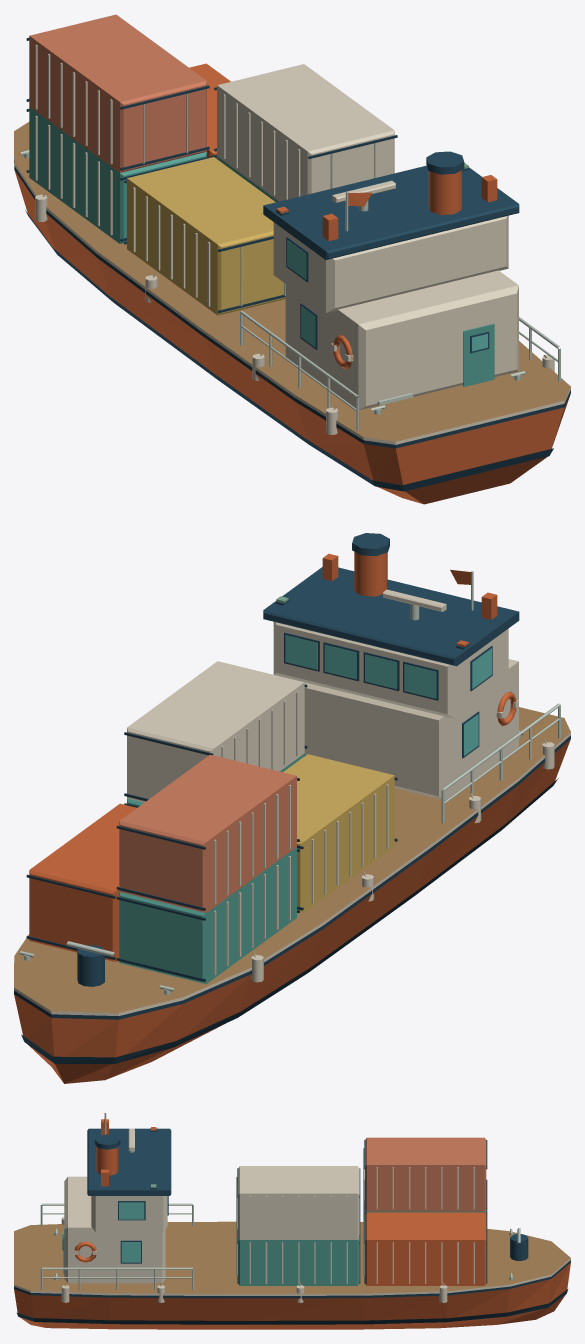
File: cargo.glb
3 views of the same model, one above another, from view 1: azimuth 30°, elevation 25°; view 2: azimuth 150°, elevation 25°; view 3: azimuth 270°, elevation 25° (orthographic). The views are drawn at different scales.
Visible parts, largest first — view 1: static_painted, static_dark, static_metal, static_glass; view 2: static_painted, static_dark, static_glass, static_metal; view 3: static_painted, static_dark, static_metal, static_glass.
Boxes of the visible parts, x1,y1,x2,y2 form: static_painted: [14, 14, 570, 504]; static_dark: [263, 151, 519, 353]; static_metal: [20, 93, 560, 430]; static_glass: [287, 239, 487, 351]; static_painted: [14, 552, 570, 1083]; static_dark: [77, 533, 519, 986]; static_glass: [285, 635, 491, 755]; static_metal: [19, 571, 560, 994]; static_painted: [14, 1115, 570, 1329]; static_dark: [62, 1128, 528, 1263]; static_metal: [40, 1113, 520, 1290]; static_glass: [62, 1202, 144, 1262].
Size of the model in its own units: 4.3 by 5.09 by 14.
